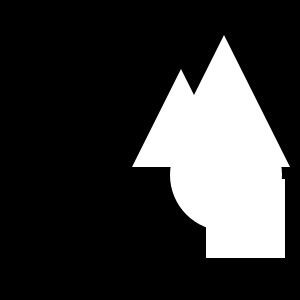circle: (206, 179, 285, 258)
rectangle: (170, 119, 282, 231)
triangle: (158, 35, 290, 167), (132, 69, 230, 167)
